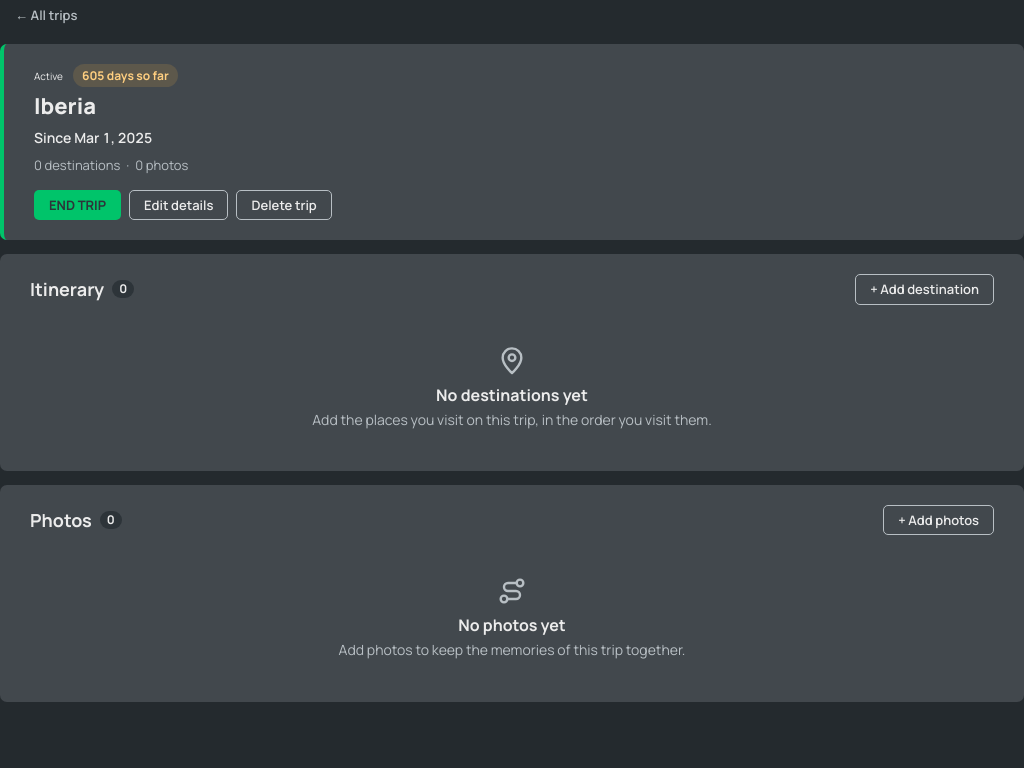
End trip › rejects an end date in the future
The width and height of the screenshot is (1024, 768).
Click the button "End trip" at (78, 205), box [34,190,121,220]
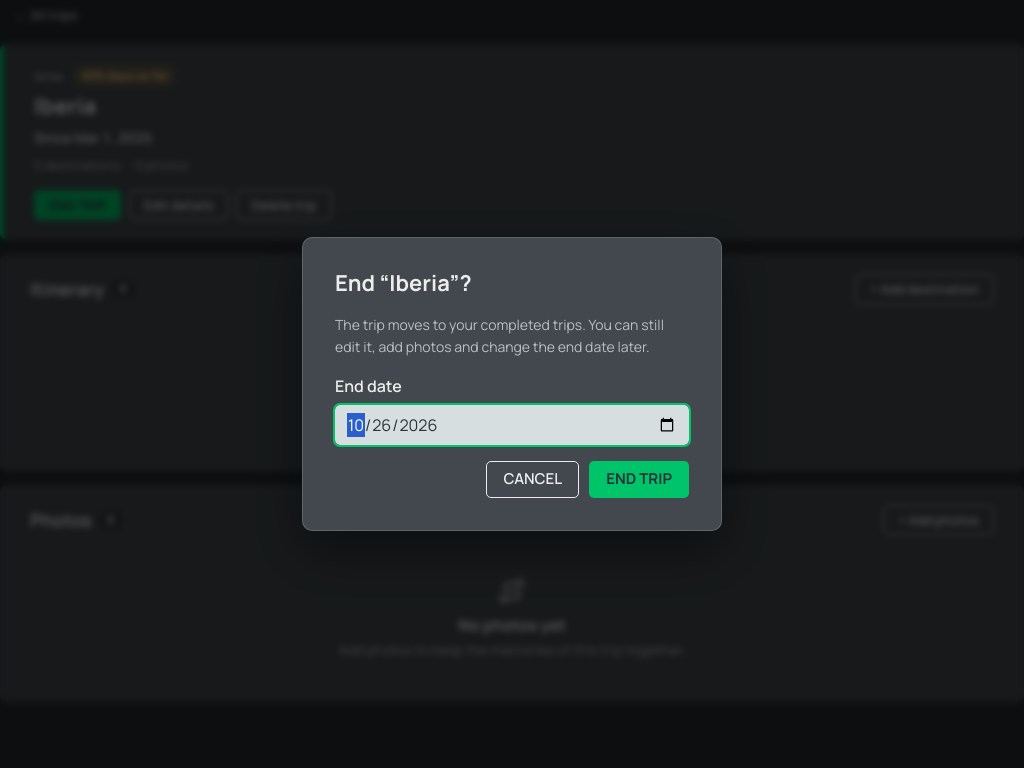
Type "2999-01-01" into the date field labelled "End date" at (512, 425), box [335,405,689,445]
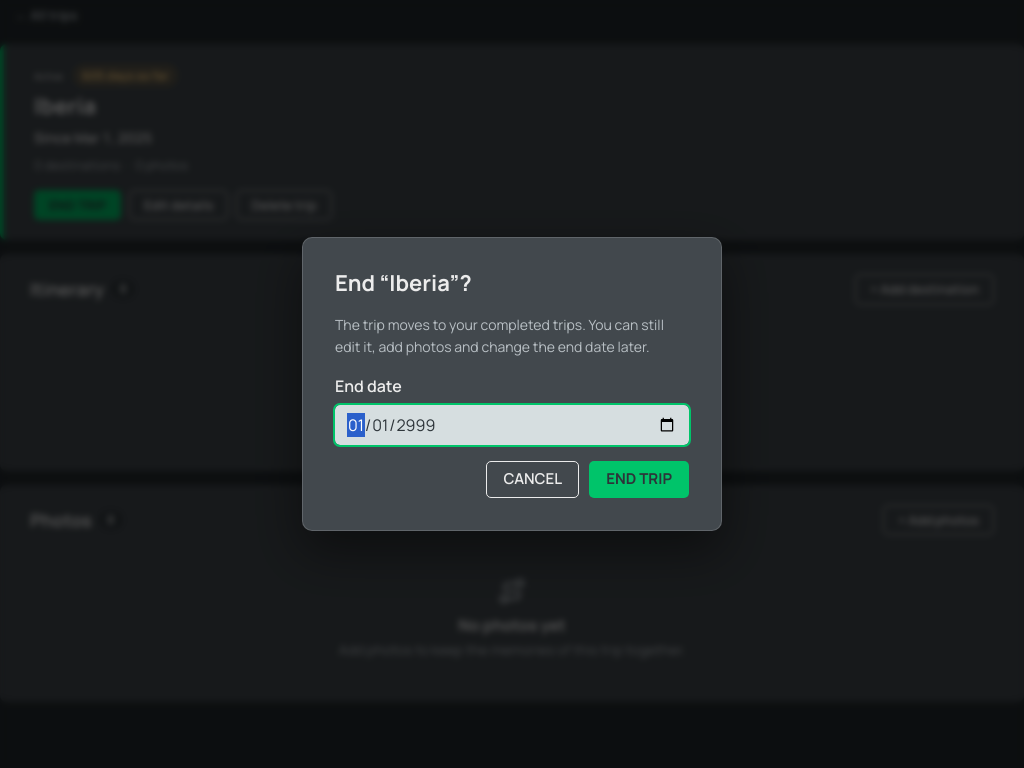
Click the button "End trip" at (639, 480), box [589,461,689,498]
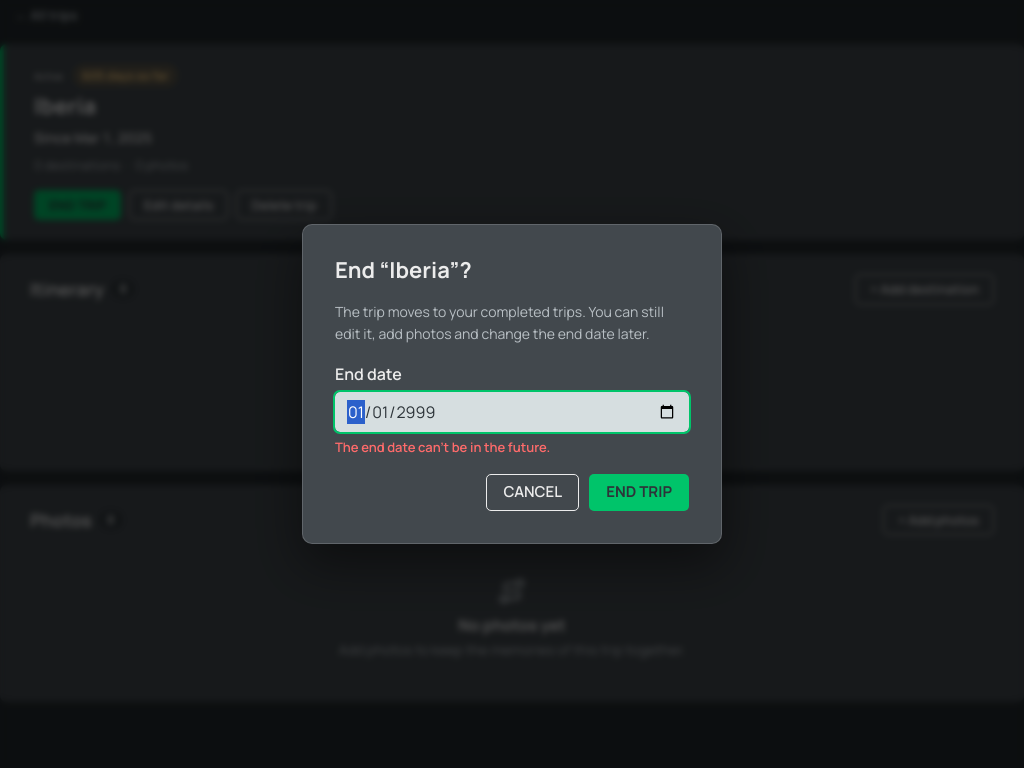
Now the text "The end date can't be in the future." is shown, box [335,438,550,456]
